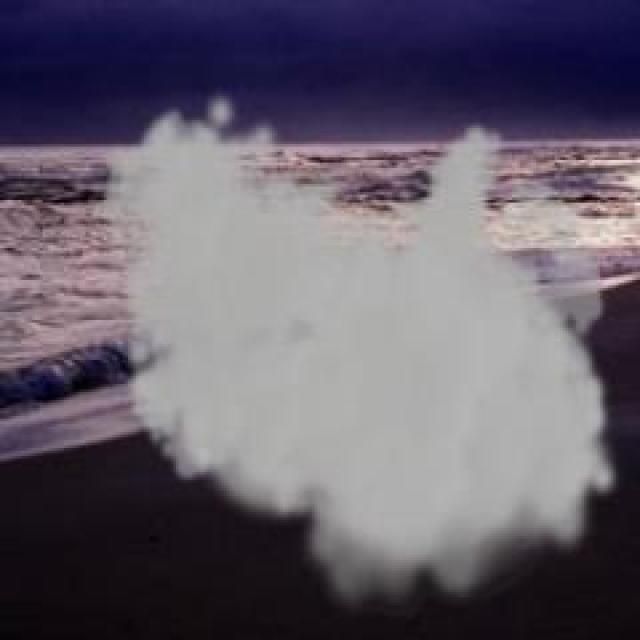smoke: (97, 87, 623, 621)
